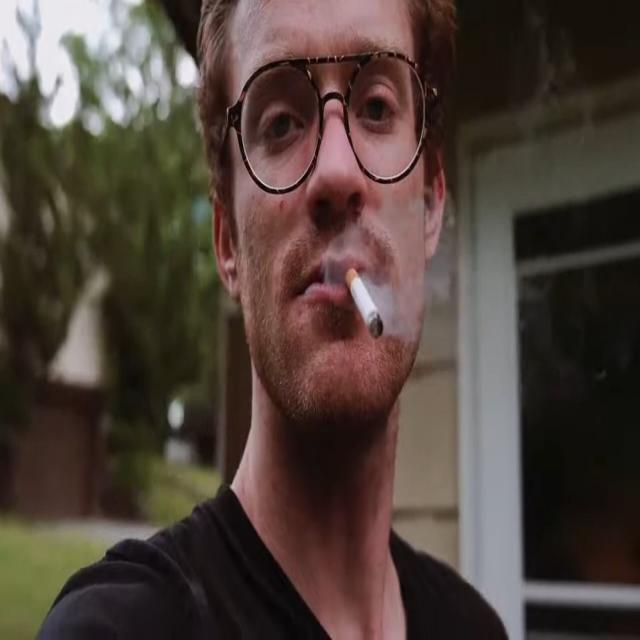Курение: (342, 262, 385, 342)
